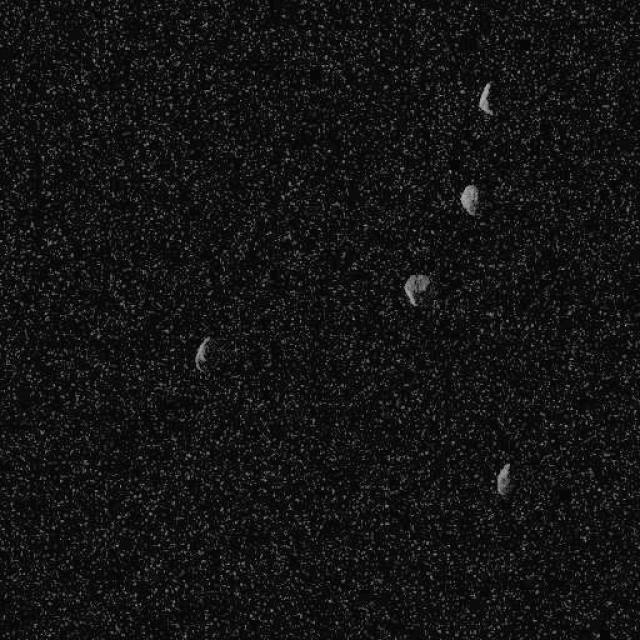D2: (402, 272, 430, 306), (459, 182, 480, 216), (194, 335, 212, 373), (476, 80, 494, 116), (495, 462, 513, 496)
